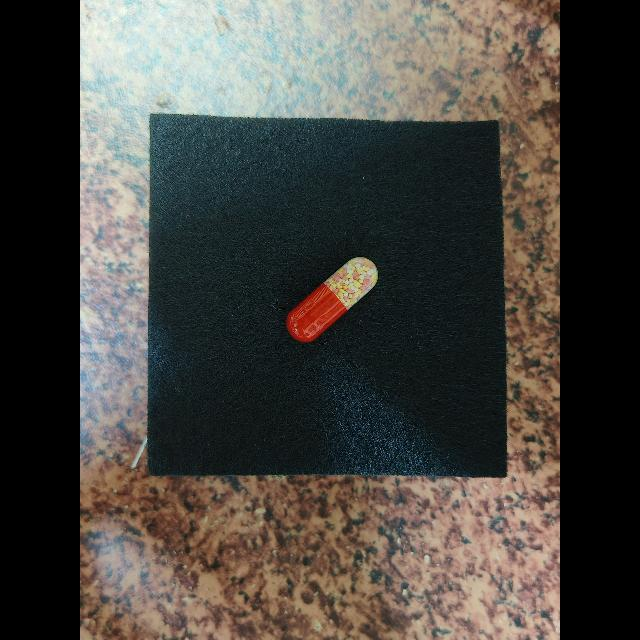Intact Capsule: (286, 257, 378, 343)
